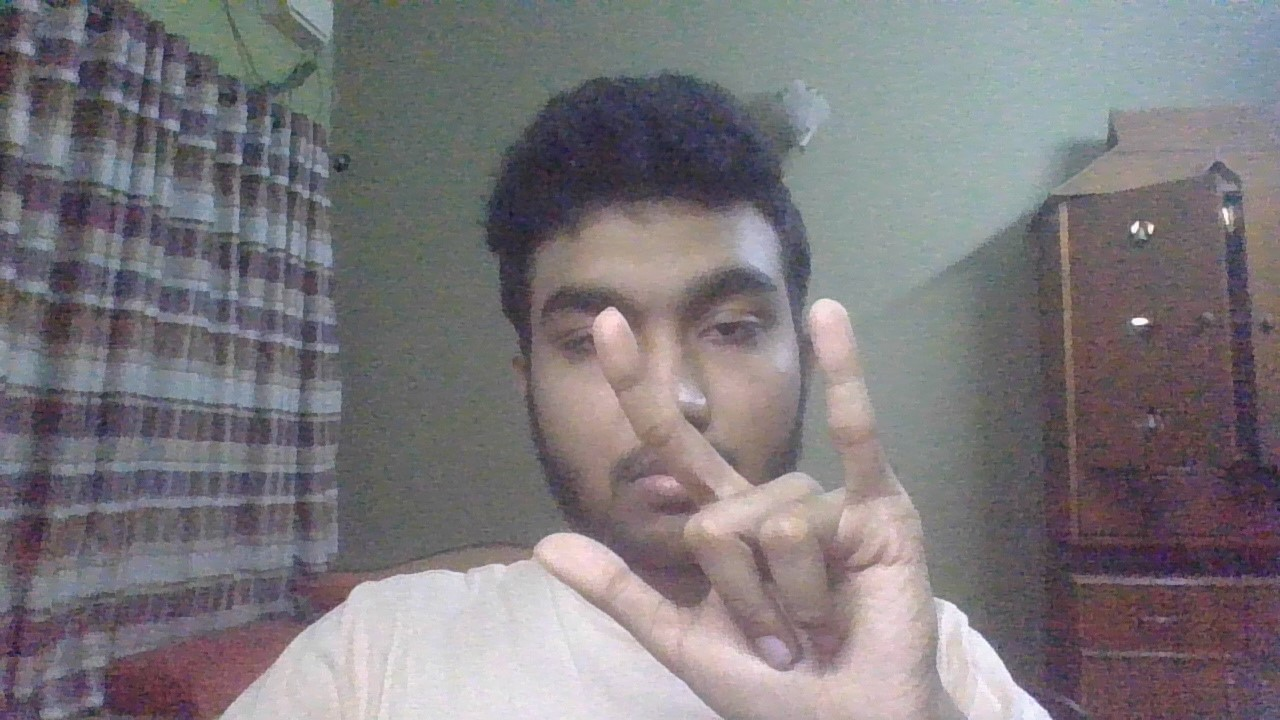I Love You: (526, 290, 987, 720)
